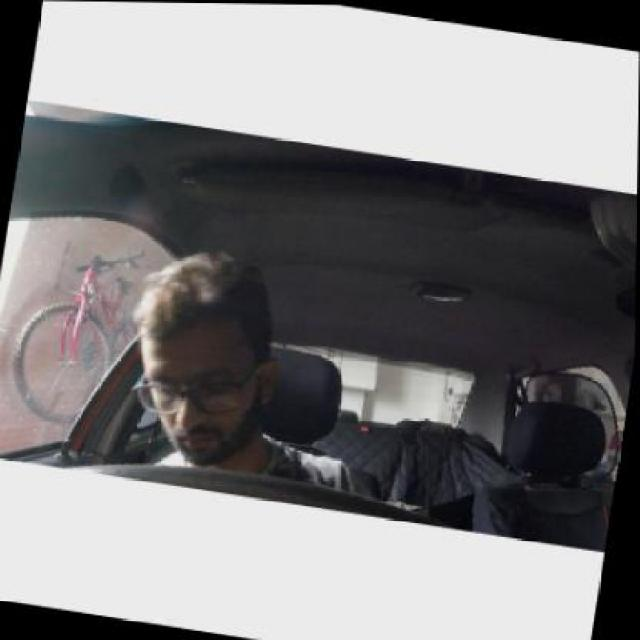drowsy: (128, 246, 288, 472)
